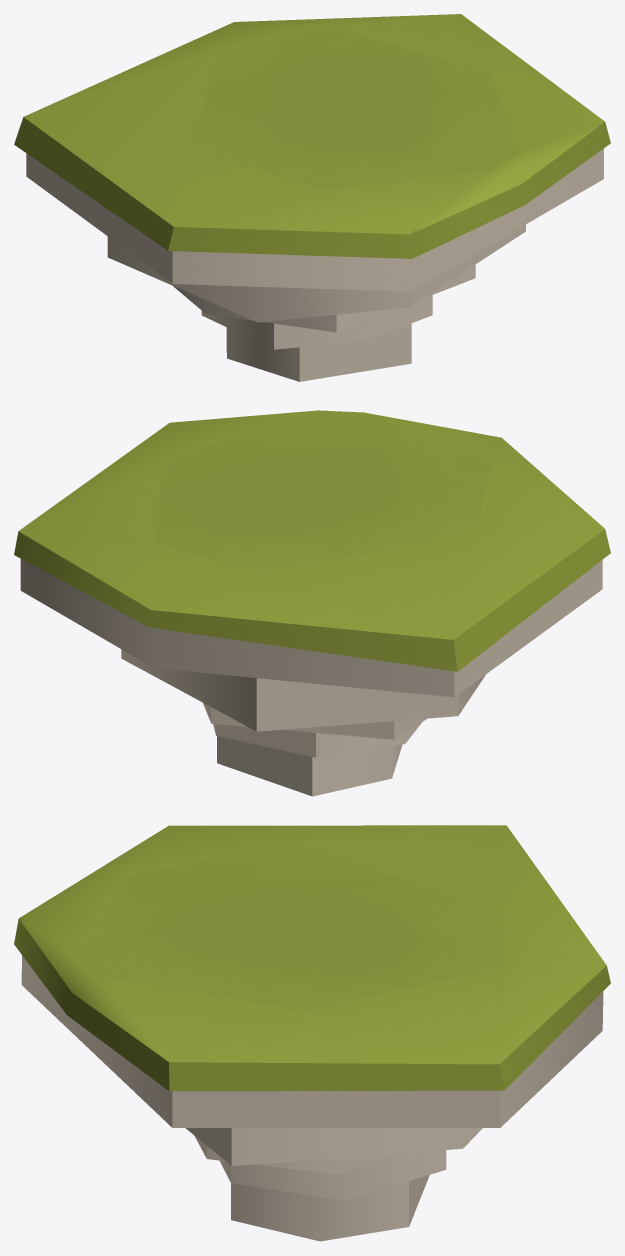
Rendered from floor2.fbx.
3 views of the same model, one above another, from view 1: azimuth 30°, elevation 25°; view 2: azimuth 150°, elevation 25°; view 3: azimuth 270°, elevation 25° (orthographic). The views are drawn at different scales.
Parts seen in each view (by area): view 1: polySurface1; view 2: polySurface1; view 3: polySurface1.
Part boxes in pixels (x1,y1,x2,y2): polySurface1: [14, 14, 610, 381]; polySurface1: [14, 410, 610, 796]; polySurface1: [14, 825, 610, 1241].
Bounding box in the file's own units: 4.3 × 2.22 × 4.45.
